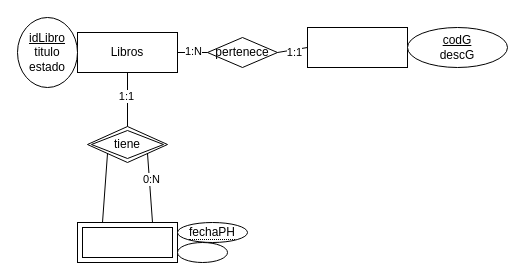
The diagram is 525 pixels wide and 280 high, and some of its shapes have lost their labels. The shapes that lost their labels are listed below. From the top down, each one's centre as x and y in pixels, then its label:
At (x=357, y=47): "Generos".
At (x=127, y=242): "PreciosHist".
At (x=202, y=252): "precio".
